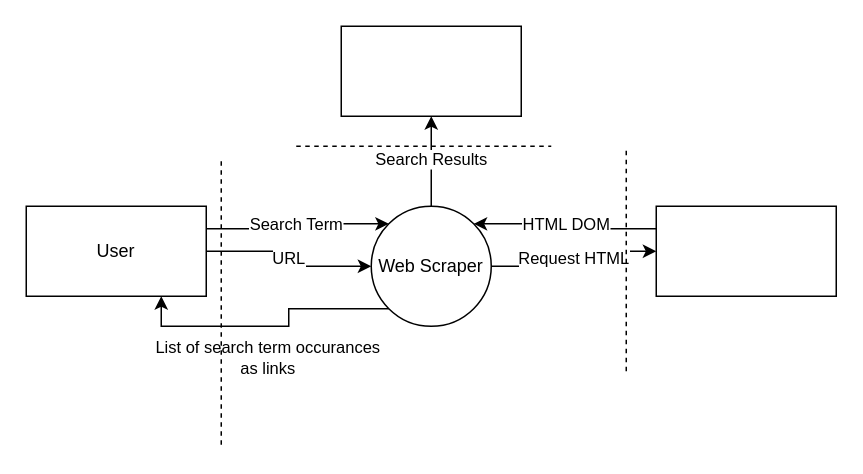
The diagram is 863 pixels wide and 474 high, and some of its shapes have lost their labels. The box of each missing label's shape, as (x1, y1, x2, y2) in pixels:
Cloud Backup: (340, 25, 521, 116)
External Website: (655, 205, 836, 296)
